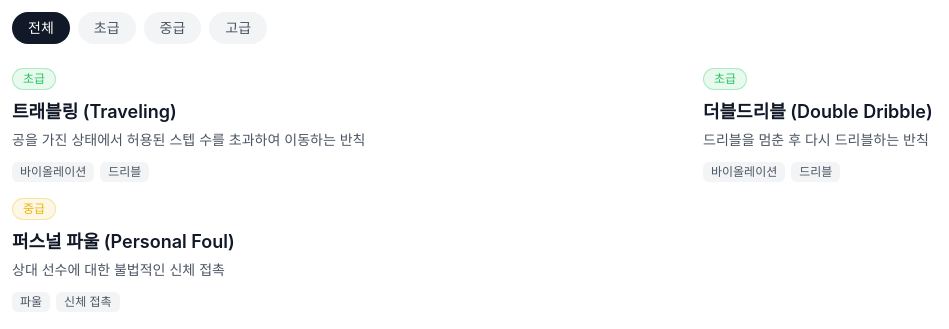
Scenario: RuleListWithFilter › 초급 필터를 적용하면 초급만 표시한다
This screenshot has width=949, height=329.
Click the button "초급" at (107, 28), box x1=78 y1=12 x2=136 y2=44
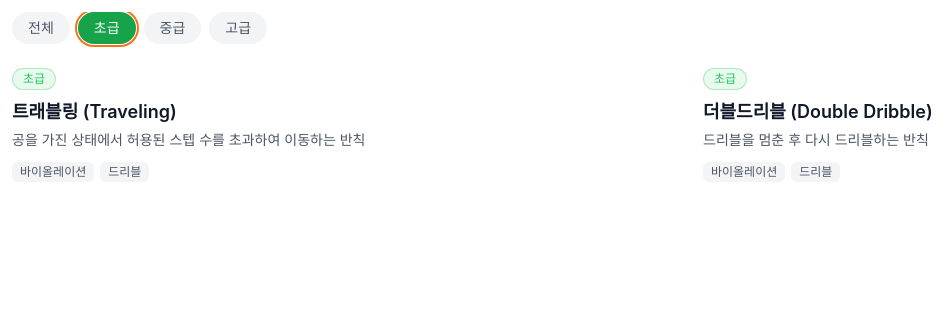
Expected: the heading "트래블링 (Traveling)" is shown, x1=12 y1=101 x2=177 y2=122
Expected: the link "퍼스널 파울 (Personal Foul)" is gone
